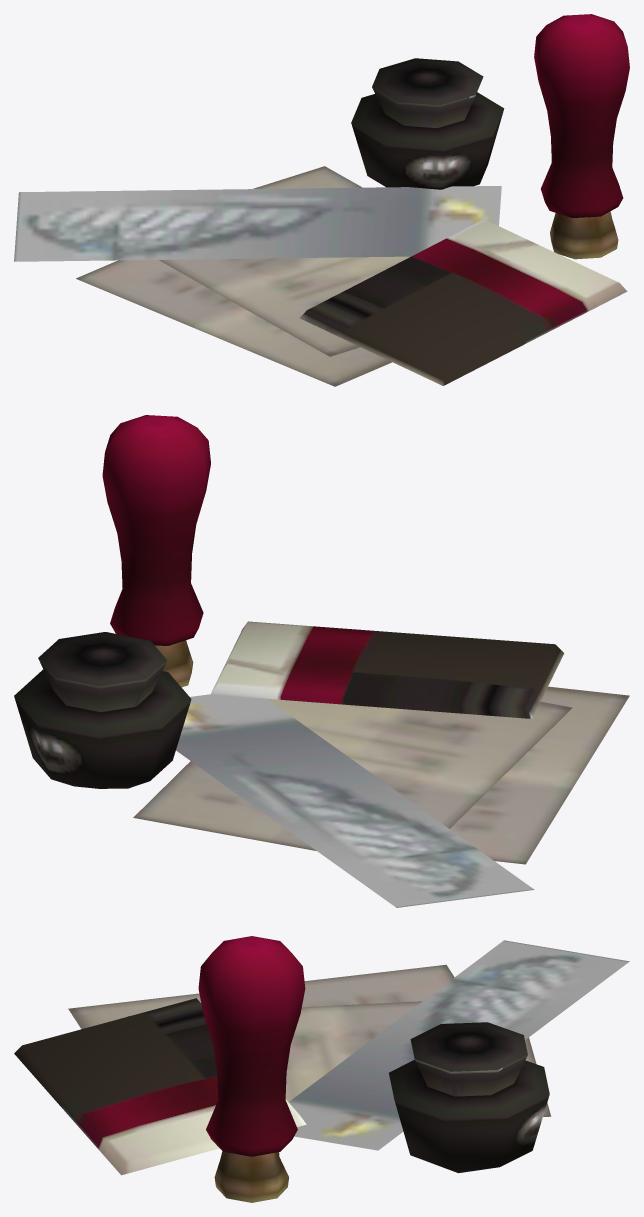
The model's file is int_oth_letter.dae.
3 views of the same model, one above another, from view 1: azimuth 30°, elevation 25°; view 2: azimuth 150°, elevation 25°; view 3: azimuth 270°, elevation 25° (orthographic). The views are drawn at different scales.
Visible parts, largest first — view 1: int_oth_letter; view 2: int_oth_letter; view 3: int_oth_letter.
Part boxes in pixels (box(x1,y1,x2,y2)): int_oth_letter: box(14, 14, 629, 386); int_oth_letter: box(14, 415, 629, 907); int_oth_letter: box(14, 936, 629, 1202).
Size of the model in its own units: 25.82 by 11.22 by 25.92.
Materials: 1 (1 with a texture image).
